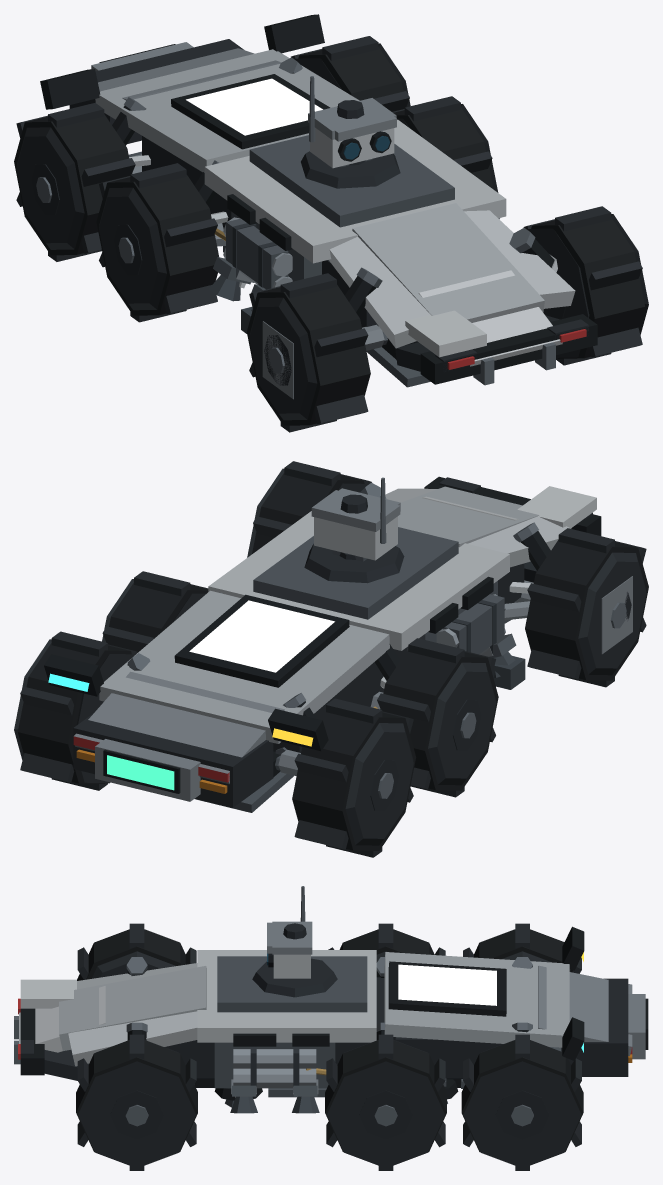
File: r47xs_recon_rover_d0_lod1.meshopt.glb
The picture shows the model from 3 angles, top to bottom: view 1: azimuth 30°, elevation 25°; view 2: azimuth 150°, elevation 25°; view 3: azimuth 270°, elevation 25°; orthographic projection. The views are drawn at different scales.
Parts seen in each view (by area): view 1: CHASSIS_ARMOR_BODY, ZONE_FRONT_BUMPER, WHEEL_ML, WHEEL_FL, WHEEL_RL, WHEEL_FR, ZONE_REAR_PANEL, ZONE_FLANK_NEG_X, WHEEL_RR, WHEEL_MR, DISPLAY_FDAI_TELEMETRY_PANEL, SENSOR_MAST_HEAD (+9 smaller); view 2: CHASSIS_ARMOR_BODY, ZONE_REAR_PANEL, WHEEL_RL, WHEEL_FL, WHEEL_ML, WHEEL_RR, ZONE_FRONT_BUMPER, DISPLAY_FDAI_TELEMETRY_PANEL, WHEEL_MR, WHEEL_FR, SENSOR_MAST_HEAD, ZONE_FLANK_NEG_X (+10 smaller); view 3: CHASSIS_ARMOR_BODY, ZONE_FRONT_BUMPER, WHEEL_FR, WHEEL_MR, WHEEL_RR, ZONE_REAR_PANEL, ZONE_FLANK_POS_X, WHEEL_FL, DISPLAY_FDAI_TELEMETRY_PANEL, WHEEL_RL, SENSOR_MAST_HEAD, WHEEL_ML (+5 smaller).
Boxes of the visible parts, x1,y1,x2,y2 form: CHASSIS_ARMOR_BODY: (95, 49, 506, 359); ZONE_FRONT_BUMPER: (328, 203, 597, 387); WHEEL_ML: (96, 163, 218, 322); WHEEL_FL: (247, 273, 370, 432); WHEEL_RL: (14, 103, 135, 261); WHEEL_FR: (523, 206, 648, 365); ZONE_REAR_PANEL: (69, 39, 280, 156); ZONE_FLANK_NEG_X: (40, 69, 321, 287); WHEEL_RR: (291, 36, 410, 111); WHEEL_MR: (392, 96, 498, 192); DISPLAY_FDAI_TELEMETRY_PANEL: (186, 78, 322, 135); SENSOR_MAST_HEAD: (308, 76, 396, 168); CHASSIS_ARMOR_BODY: (99, 511, 524, 777); ZONE_REAR_PANEL: (73, 671, 293, 812); WHEEL_RL: (292, 698, 416, 857); WHEEL_FL: (525, 528, 648, 687); WHEEL_ML: (377, 638, 498, 797); WHEEL_RR: (14, 631, 138, 790); ZONE_FRONT_BUMPER: (385, 476, 601, 623); DISPLAY_FDAI_TELEMETRY_PANEL: (189, 600, 334, 672); WHEEL_MR: (102, 571, 208, 651); WHEEL_FR: (247, 461, 371, 557); SENSOR_MAST_HEAD: (311, 477, 400, 561); ZONE_FLANK_NEG_X: (268, 576, 505, 751); CHASSIS_ARMOR_BODY: (164, 950, 569, 1097); ZONE_FRONT_BUMPER: (14, 963, 206, 1084); WHEEL_FR: (76, 1034, 197, 1170); WHEEL_MR: (325, 1034, 446, 1170); WHEEL_RR: (461, 1034, 583, 1170); ZONE_REAR_PANEL: (461, 965, 648, 1088); ZONE_FLANK_POS_X: (214, 1017, 584, 1100); WHEEL_FL: (77, 923, 196, 980); DISPLAY_FDAI_TELEMETRY_PANEL: (398, 964, 496, 1005); WHEEL_RL: (463, 923, 581, 973); SENSOR_MAST_HEAD: (267, 886, 312, 978); WHEEL_ML: (328, 923, 445, 962).
Size of the model in its own units: 2.43 by 1.69 by 4.74.
